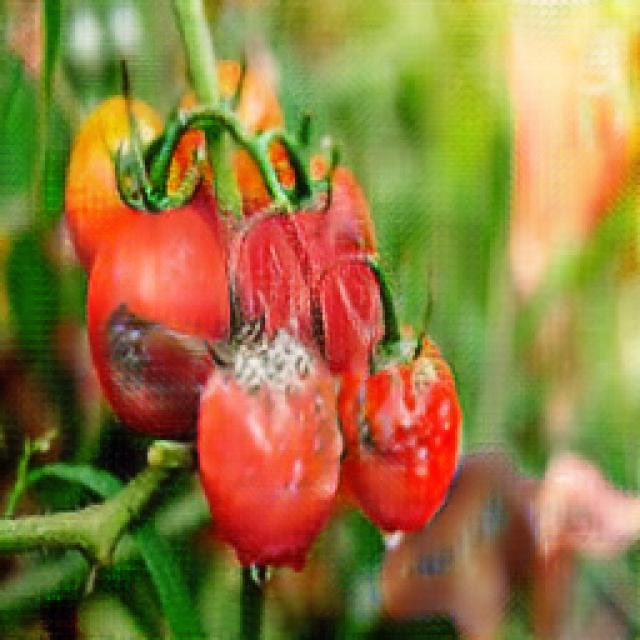overripe tomato: (195, 334, 339, 572), (91, 208, 232, 441), (335, 319, 469, 527)
